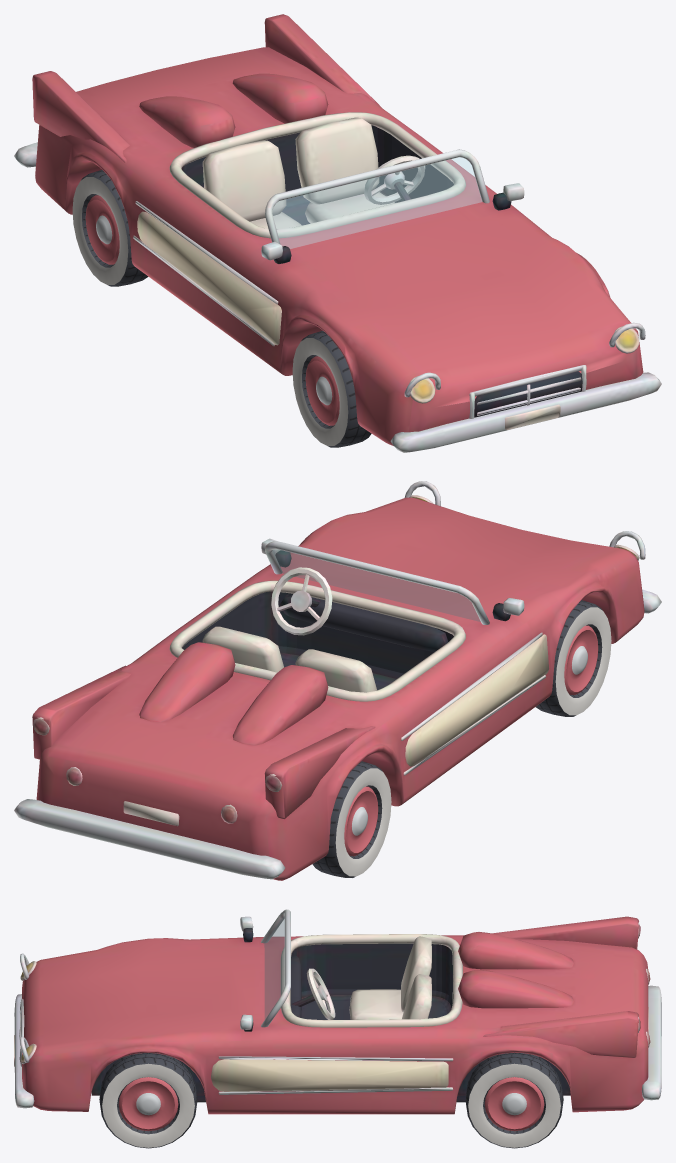
File: roadster50.glb
The picture shows the model from 3 angles, top to bottom: view 1: azimuth 30°, elevation 25°; view 2: azimuth 150°, elevation 25°; view 3: azimuth 270°, elevation 25°; orthographic projection. The views are drawn at different scales.
Visible parts, largest first — view 1: 1950s-roadster_body, 1950s-roadster_windows, 1950s-roadster_wheel_fr, 1950s-roadster_wheel_rr; view 2: 1950s-roadster_body, 1950s-roadster_wheel_rr, 1950s-roadster_wheel_fr, 1950s-roadster_windows; view 3: 1950s-roadster_body, 1950s-roadster_wheel_rl, 1950s-roadster_wheel_fl, 1950s-roadster_windows.
Boxes of the visible parts, x1,y1,x2,y2 form: 1950s-roadster_body: (14, 14, 661, 452); 1950s-roadster_windows: (272, 157, 481, 248); 1950s-roadster_wheel_fr: (292, 331, 371, 447); 1950s-roadster_wheel_rr: (72, 170, 148, 286); 1950s-roadster_body: (14, 481, 661, 880); 1950s-roadster_wheel_rr: (312, 761, 391, 877); 1950s-roadster_wheel_fr: (536, 600, 611, 716); 1950s-roadster_windows: (272, 549, 480, 621); 1950s-roadster_body: (14, 909, 661, 1114); 1950s-roadster_wheel_rl: (465, 1052, 563, 1148); 1950s-roadster_wheel_fl: (99, 1053, 197, 1148); 1950s-roadster_windows: (264, 916, 284, 1018).
Bounding box in the file's own units: 1.76 × 1.11 × 4.36.
7 materials, 2 textured.
